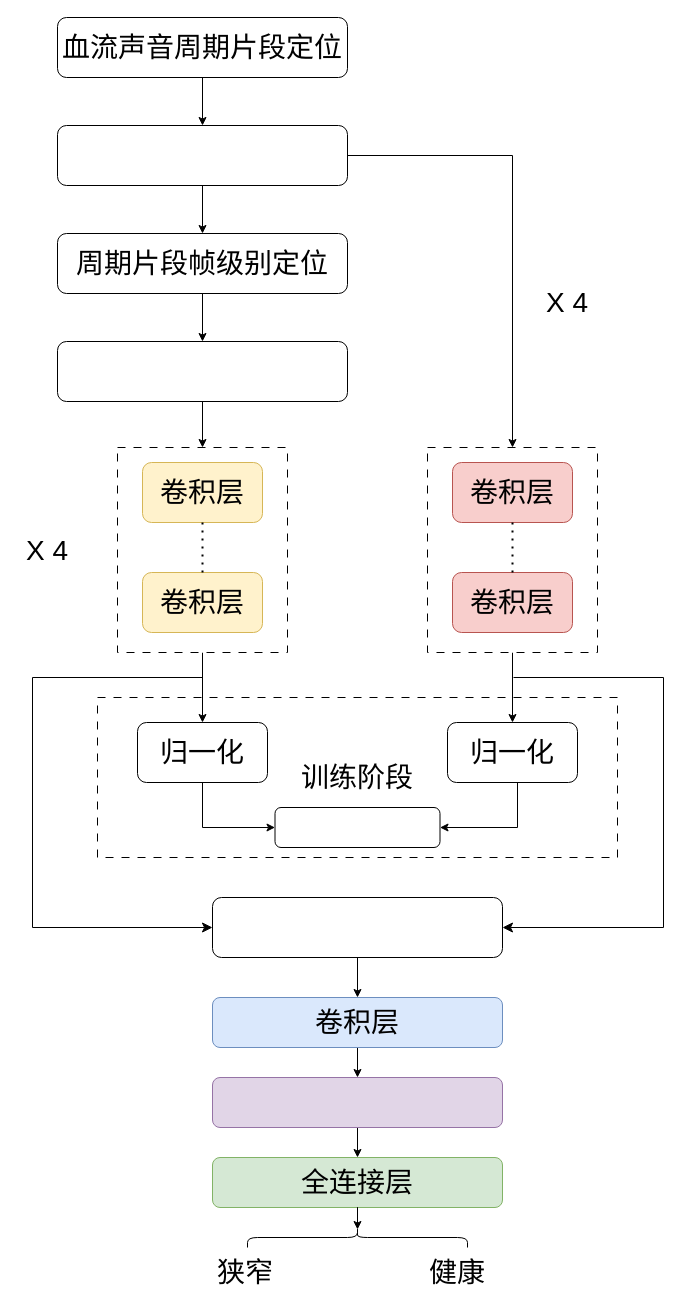
Some shapes in this 691 by 1307 pixel diagram are drawn without their labels. Each missing label, with the centre of its shape:
对数梅尔谱特征提取: the point at 202,155
平均池化: the point at 357,1102
计算片段能量比: the point at 202,371
计算相似度: the point at 357,827
通道融合: the point at 357,927
